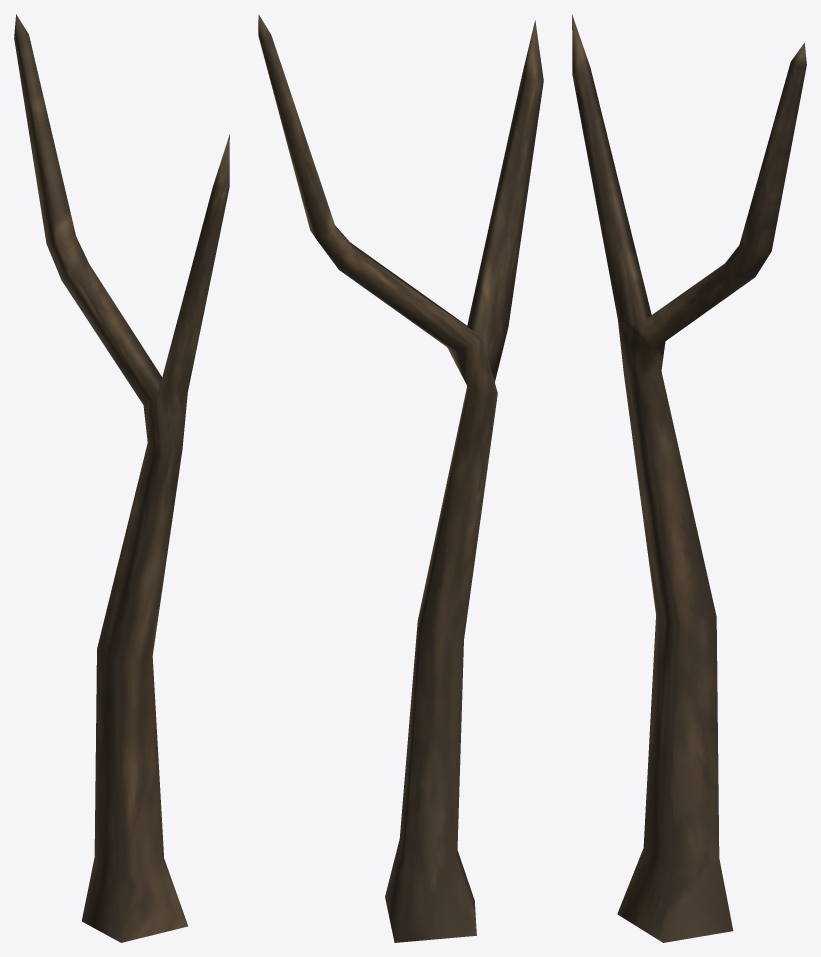
Rendered from Tree_Bare_1.glb.
The picture shows the model from 3 angles, left to right: view 1: azimuth 90°, elevation 25°; view 2: azimuth 150°, elevation 25°; view 3: azimuth 270°, elevation 25°; orthographic projection. The views are drawn at different scales.
Visible parts, largest first — view 1: Cube_079; view 2: Cube_079; view 3: Cube_079.
Part boxes in pixels (<box>): Cube_079: <box>14,14,229,942</box>; Cube_079: <box>258,14,543,942</box>; Cube_079: <box>572,14,806,942</box>.
Bounding box in the file's own units: 0.8243 × 4.22 × 0.9567.
1 material, 1 textured.
